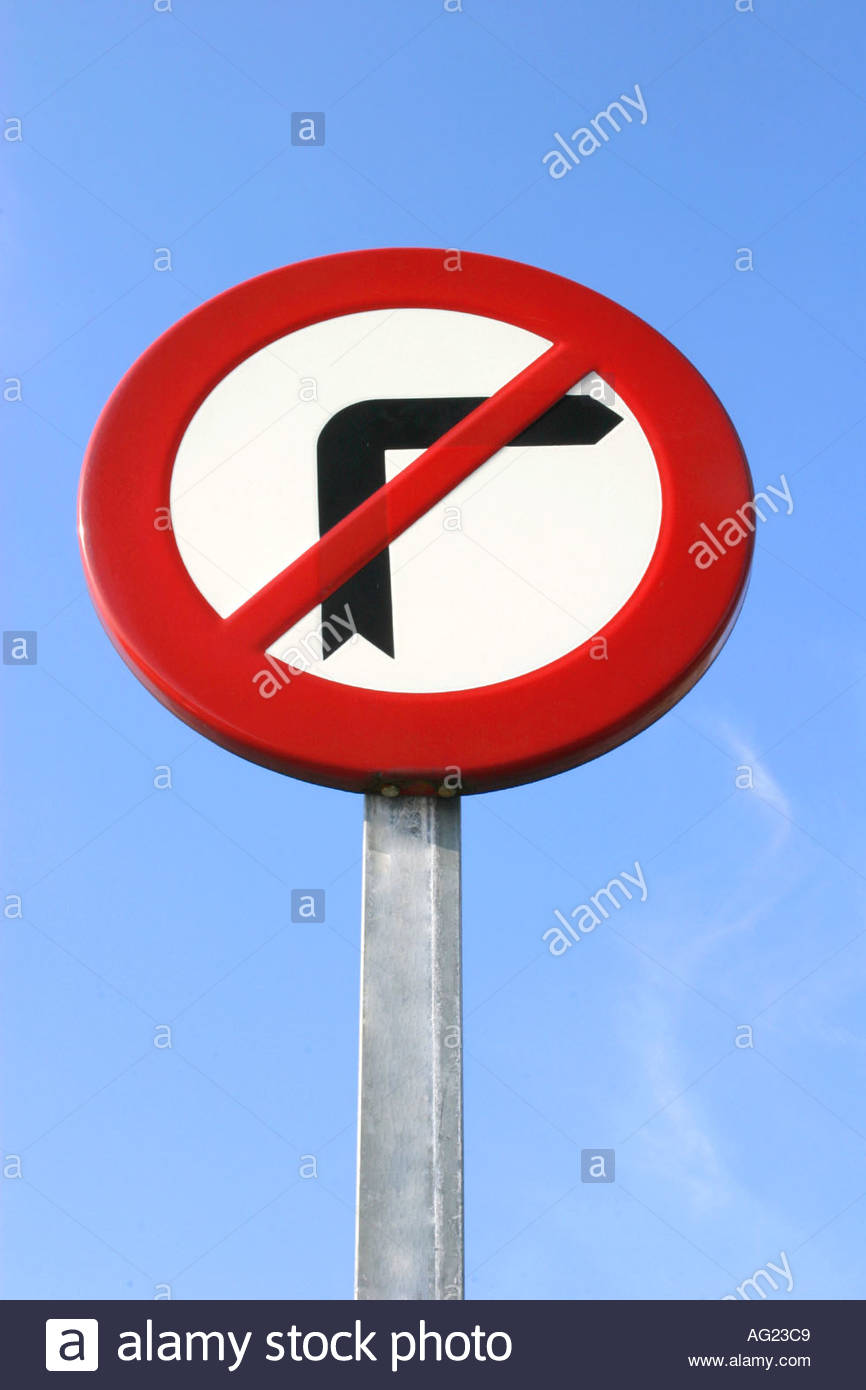No_right_turn: (72, 250, 759, 774)
